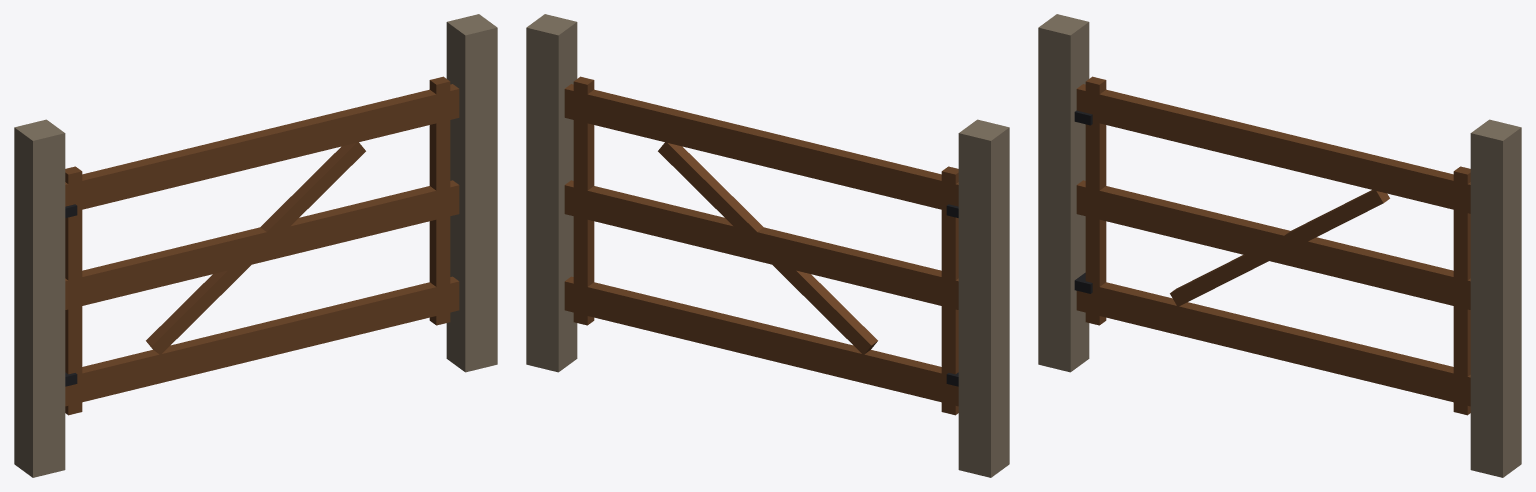
The model's file is SM_Fence_Gate.obj.
The picture shows the model from 3 angles, left to right: view 1: azimuth 30°, elevation 25°; view 2: azimuth 150°, elevation 25°; view 3: azimuth 330°, elevation 25°; orthographic projection.
Visible parts, largest first — view 1: SM_Fence_Gate; view 2: SM_Fence_Gate; view 3: SM_Fence_Gate.
Part boxes in pixels (x1=…): SM_Fence_Gate: x1=14, y1=14, x2=497, y2=477; SM_Fence_Gate: x1=526, y1=14, x2=1009, y2=477; SM_Fence_Gate: x1=1038, y1=14, x2=1521, y2=477.
Size of the model in its own units: 2.02 by 1.4 by 0.14.
